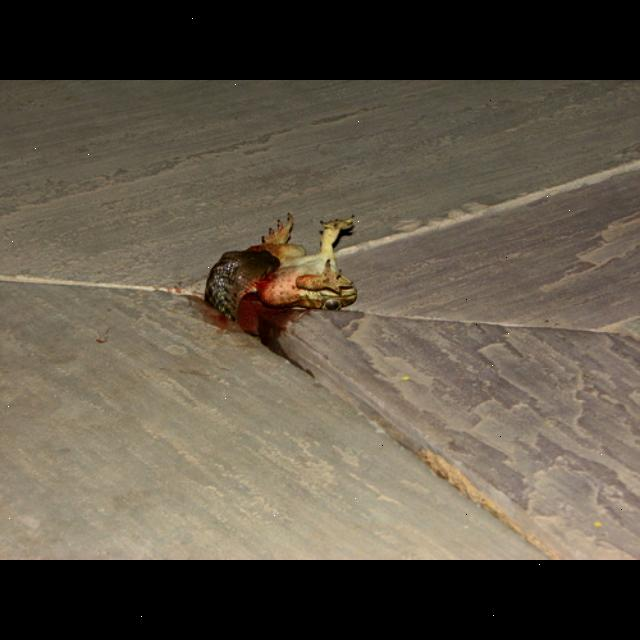snake: (200, 242, 278, 324)
